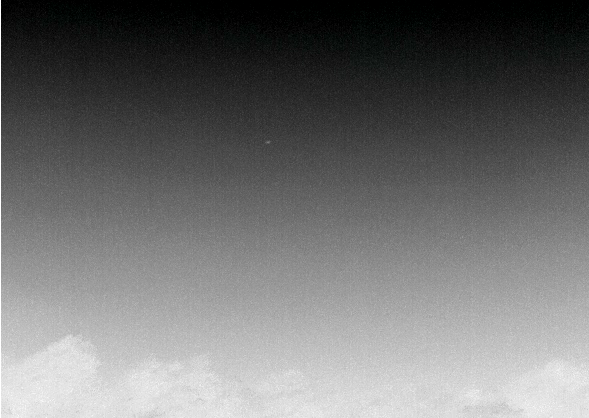dim target: (263, 138, 271, 144)
